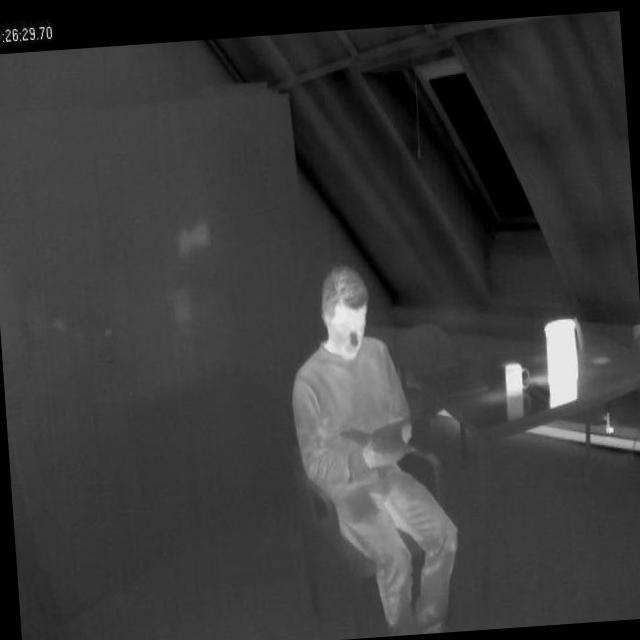person: (279, 253, 470, 640)
